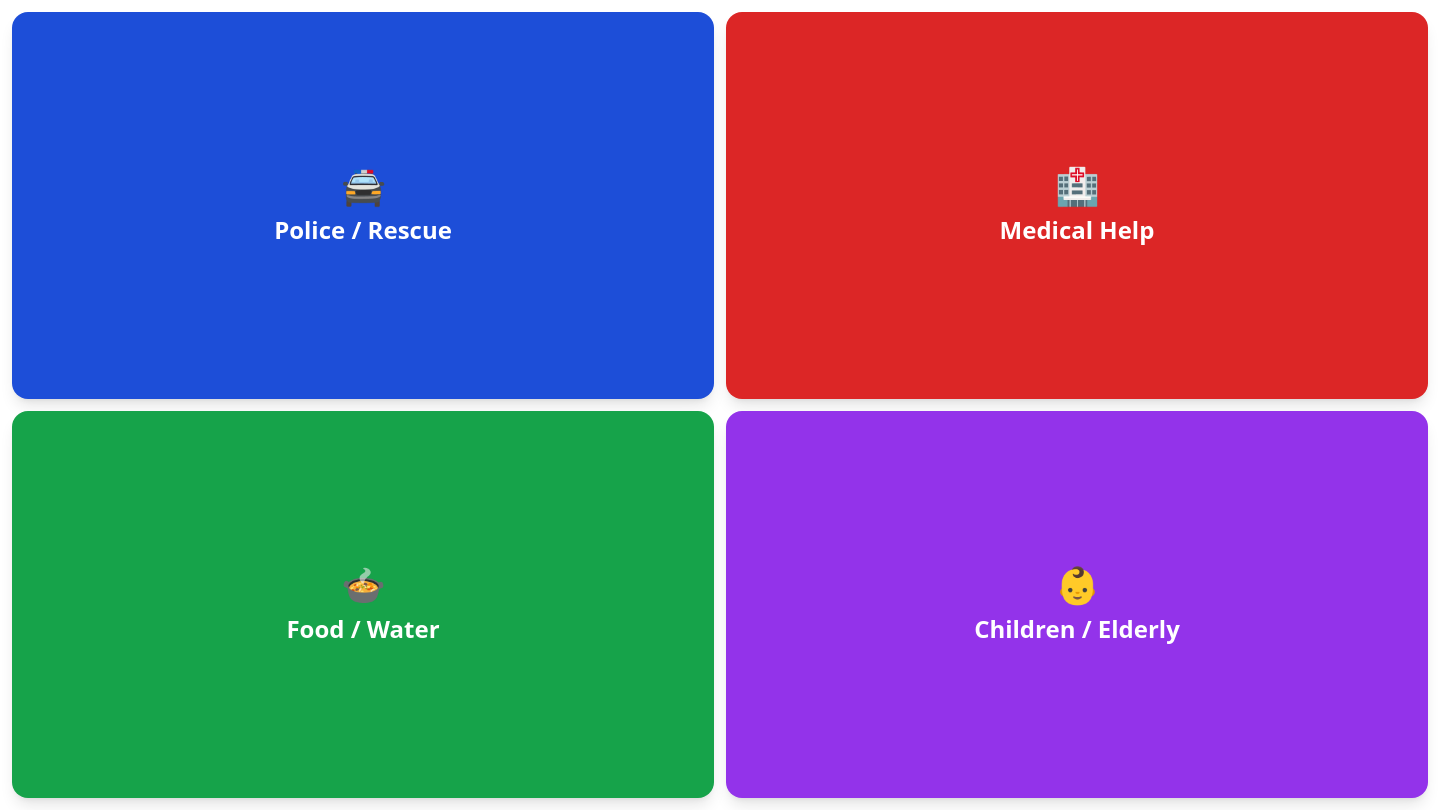
Scenario: HomeScreen › displays an error message when SOS creation fails
The width and height of the screenshot is (1440, 810).
Click the button "🚔 Police / Rescue": (363, 206) 12,12 -> 714,399
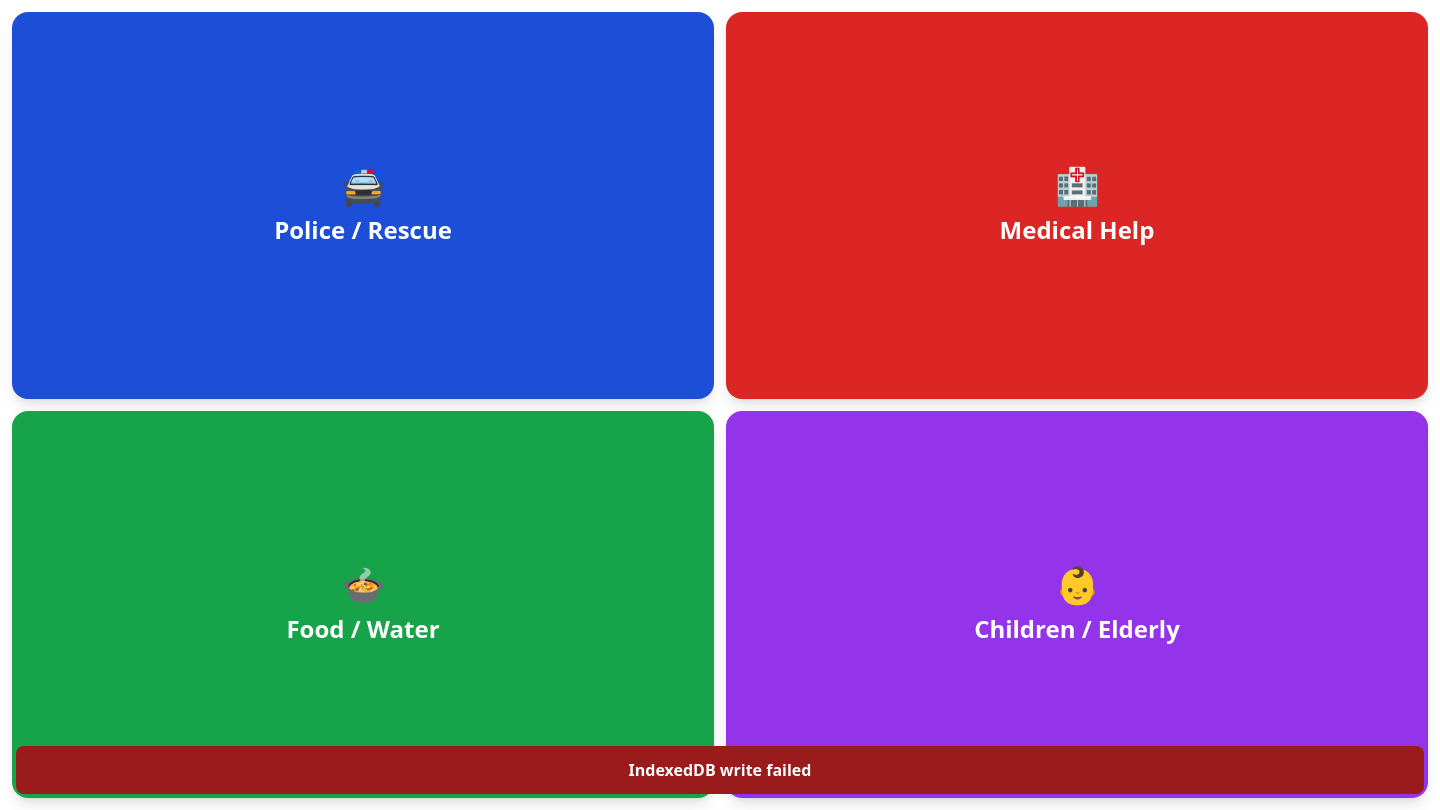
Expected: the message reads "IndexedDB write failed", 629,759 -> 812,781
